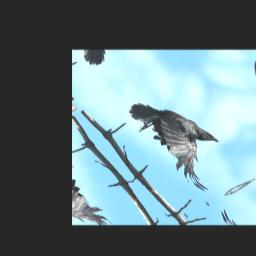Crow: (120, 84, 246, 201)
